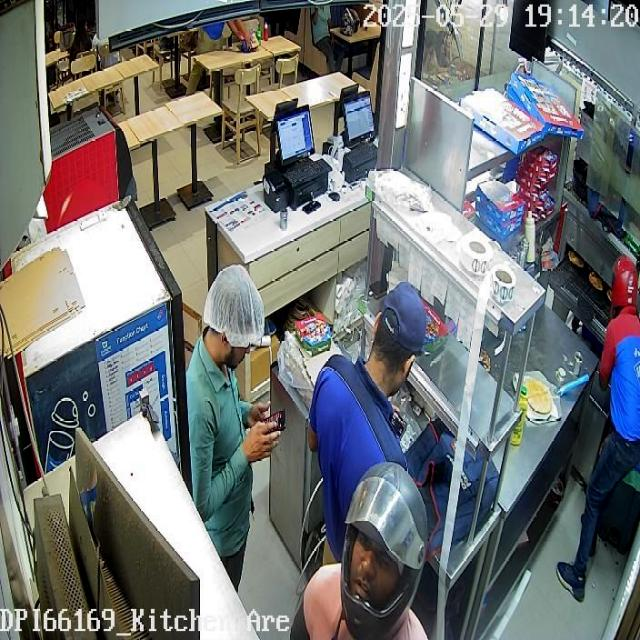helmet: (339, 460, 426, 639)
